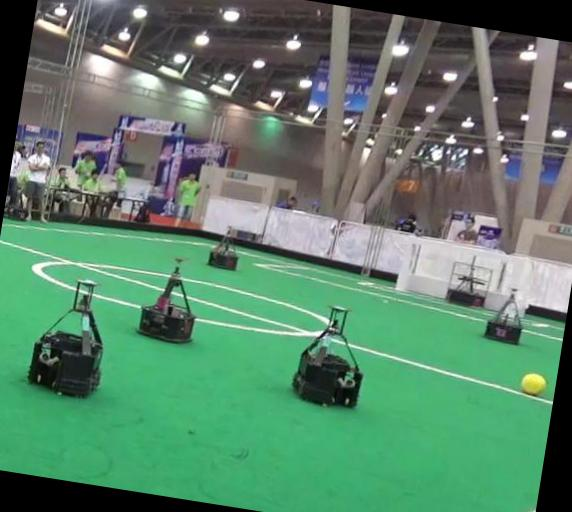ball: (520, 372, 546, 395)
goal: (395, 233, 414, 291)
robot: (28, 280, 102, 396), (292, 306, 361, 406), (137, 267, 194, 341), (446, 255, 492, 306), (484, 288, 521, 343), (207, 236, 237, 269)
